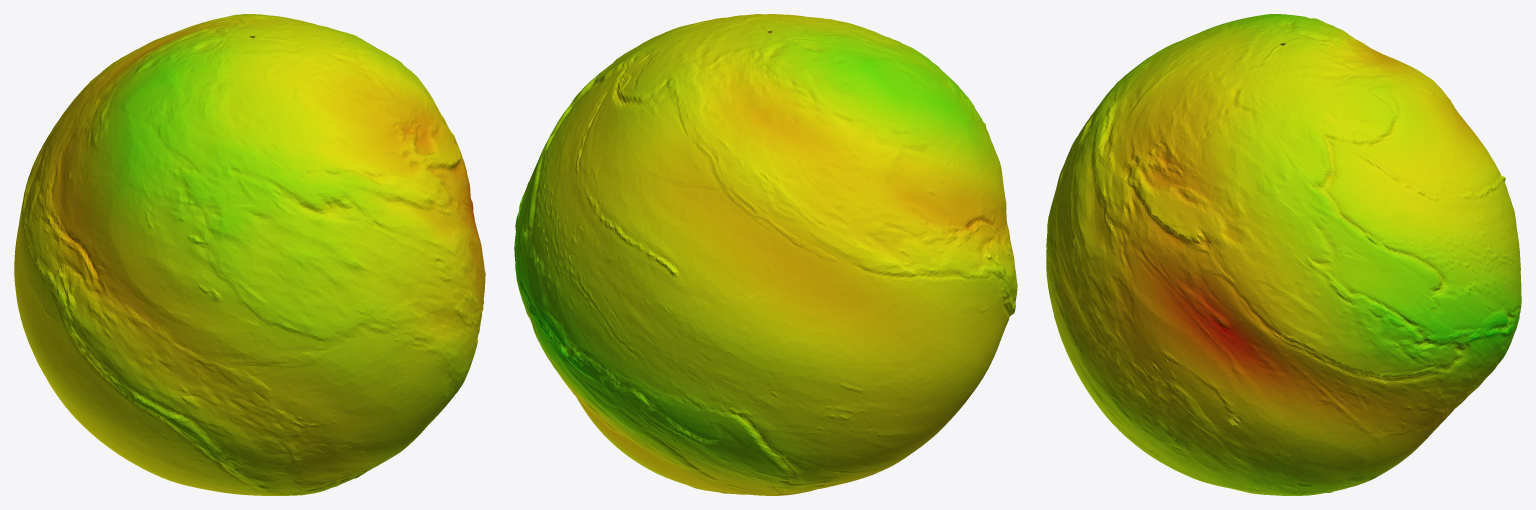
The model's file is geoid_egm96.glb.
3 views of the same model, side by side, from view 1: azimuth 30°, elevation 25°; view 2: azimuth 150°, elevation 25°; view 3: azimuth 270°, elevation 25° (orthographic). The views are drawn at different scales.
Visible parts, largest first — view 1: EGM96_Geoid; view 2: EGM96_Geoid; view 3: EGM96_Geoid.
Part boxes in pixels (x1,y1,x2,y2): EGM96_Geoid: (14,14,485,495); EGM96_Geoid: (514,14,1017,495); EGM96_Geoid: (1046,14,1521,495).
Size of the model in its own units: 3.98 by 4.01 by 4.06.
